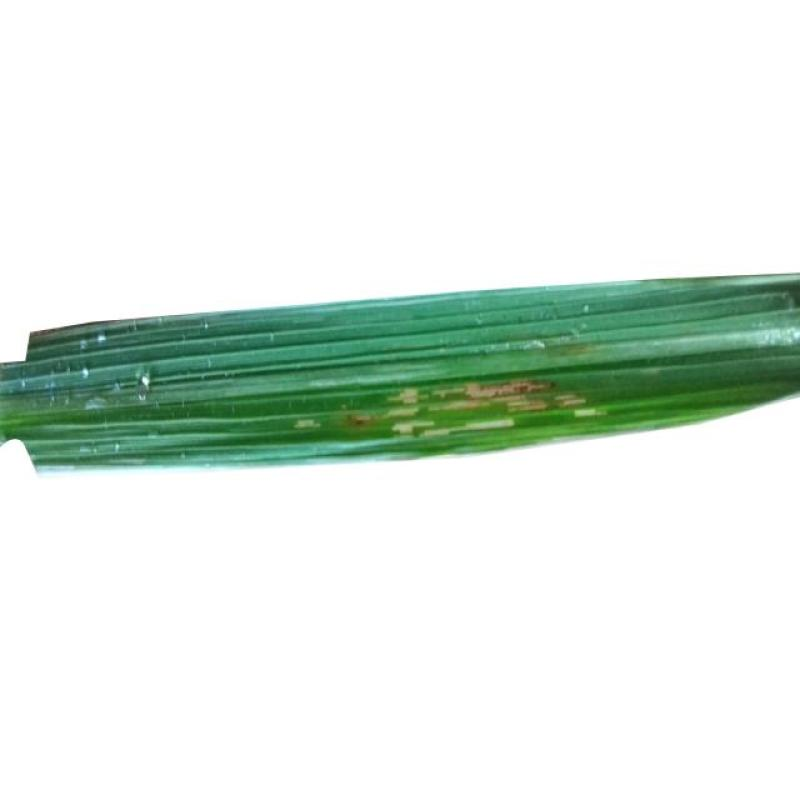Bacterial_Leaf_Blight: (472, 366, 578, 428), (386, 380, 429, 435), (332, 396, 374, 432)
